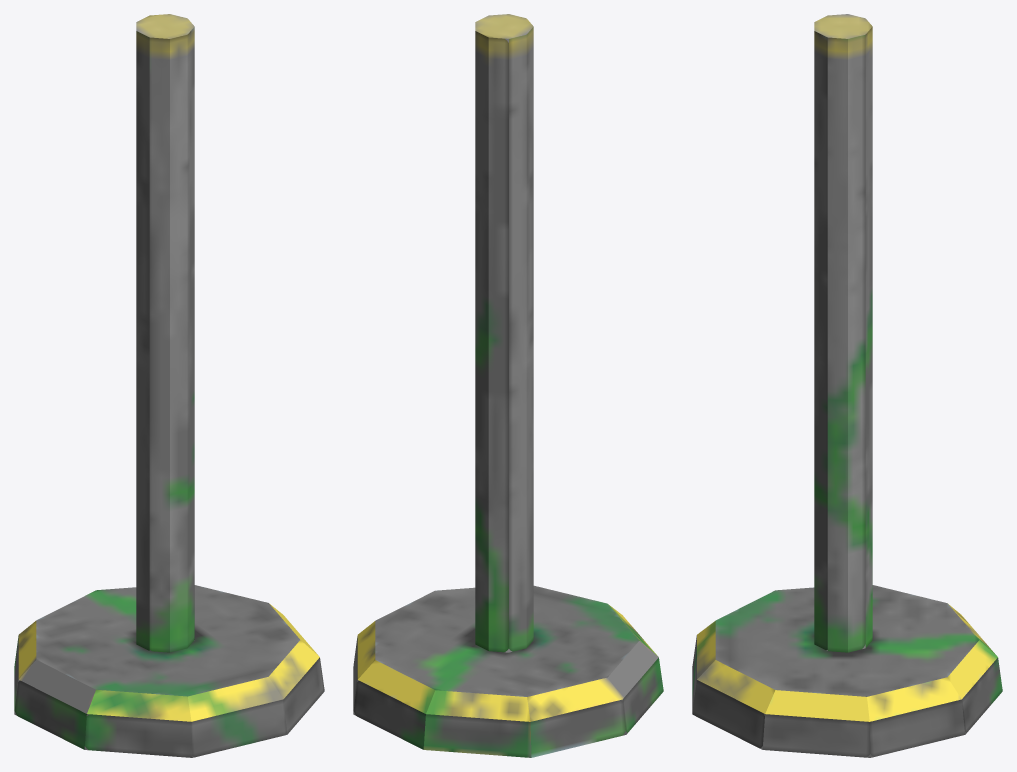
File: Check_Point.fbx
3 renders of one model, left to right at view 1: azimuth 30°, elevation 25°; view 2: azimuth 150°, elevation 25°; view 3: azimuth 270°, elevation 25°, orthographic.
Parts seen in each view (by area): view 1: base, cylinder; view 2: base, cylinder; view 3: base, cylinder.
Boxes of the visible parts, bbox=[...] form: base: bbox=[14, 585, 324, 757]; cylinder: bbox=[136, 14, 194, 652]; base: bbox=[353, 585, 663, 757]; cylinder: bbox=[475, 14, 533, 652]; base: bbox=[692, 585, 1002, 757]; cylinder: bbox=[814, 14, 872, 652].
Bounding box in the file's own units: 105 × 244 × 103.
Materials: 1 (1 with a texture image).
